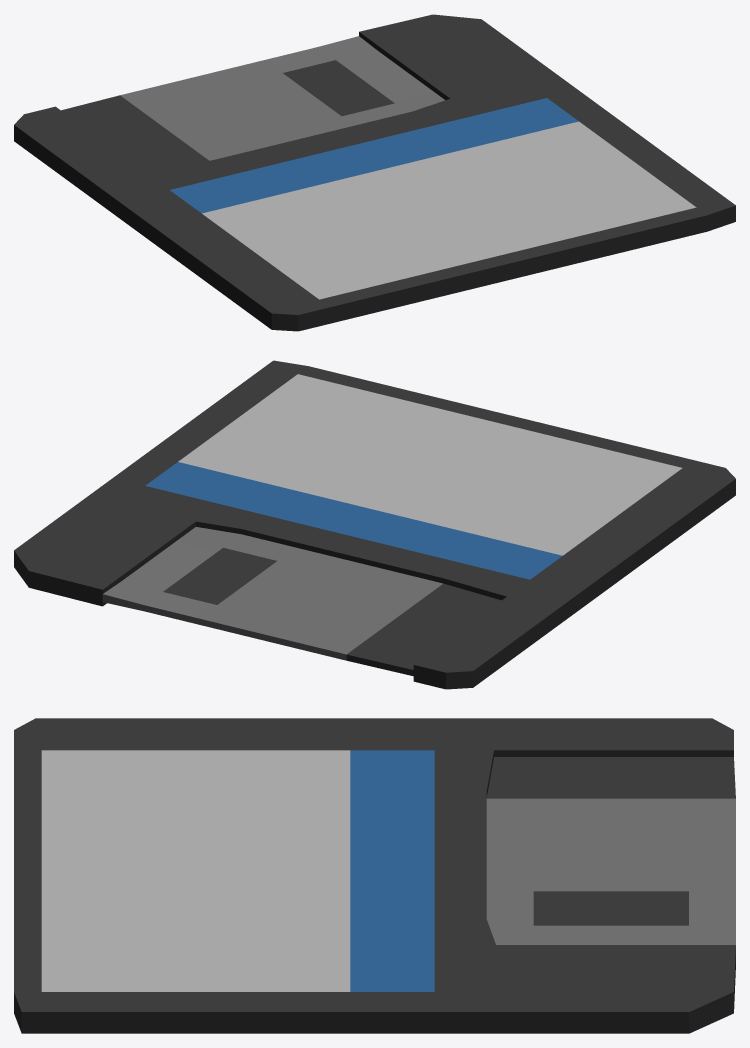
File: human-electronics-floppy-disk_v1.fbx
The picture shows the model from 3 angles, top to bottom: view 1: azimuth 30°, elevation 25°; view 2: azimuth 150°, elevation 25°; view 3: azimuth 270°, elevation 25°; orthographic projection. The views are drawn at different scales.
Parts seen in each view (by area): view 1: Floppy Disk; view 2: Floppy Disk; view 3: Floppy Disk.
Boxes of the visible parts, left/top/right/bottom form: Floppy Disk: left=14, top=14, right=735, bottom=331; Floppy Disk: left=14, top=360, right=735, bottom=689; Floppy Disk: left=14, top=718, right=735, bottom=1033.
Bounding box in the file's own units: 0.0867 × 0.00371 × 0.09.
